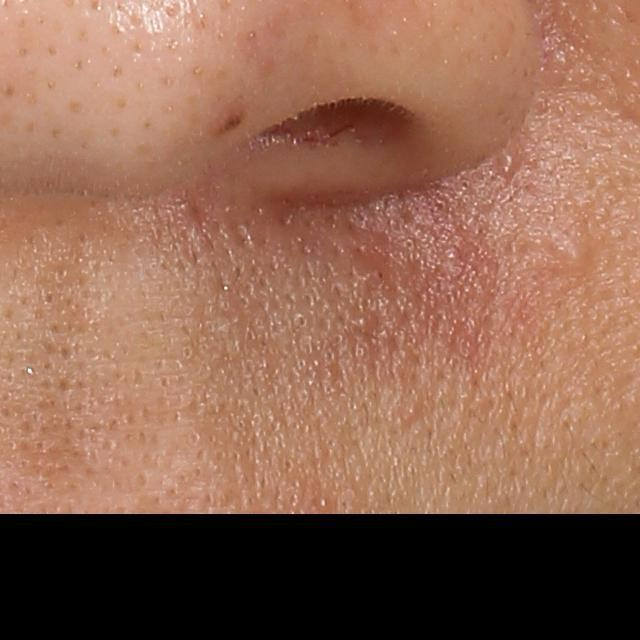comedo: (550, 231, 600, 276), (293, 310, 311, 330)
nevus: (214, 109, 234, 139)
